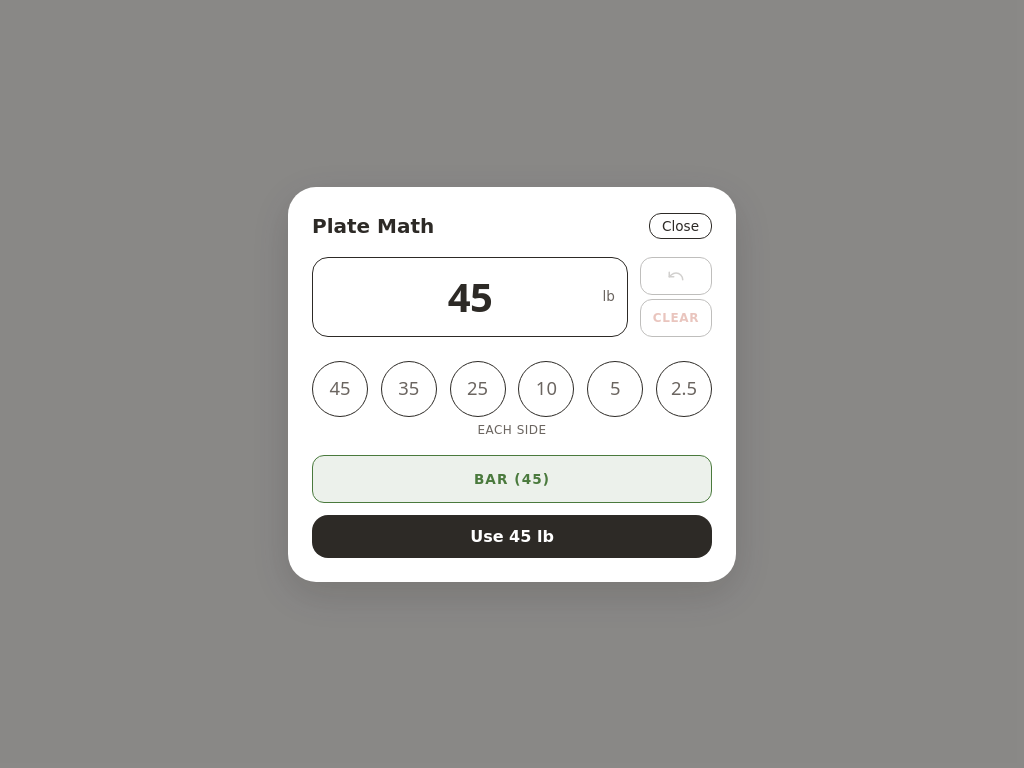
Test: PlateCalculator › undoLastPlate › removes the last added plate
Click the button "45" at [340, 388], box x1=312 y1=360 x2=368 y2=416
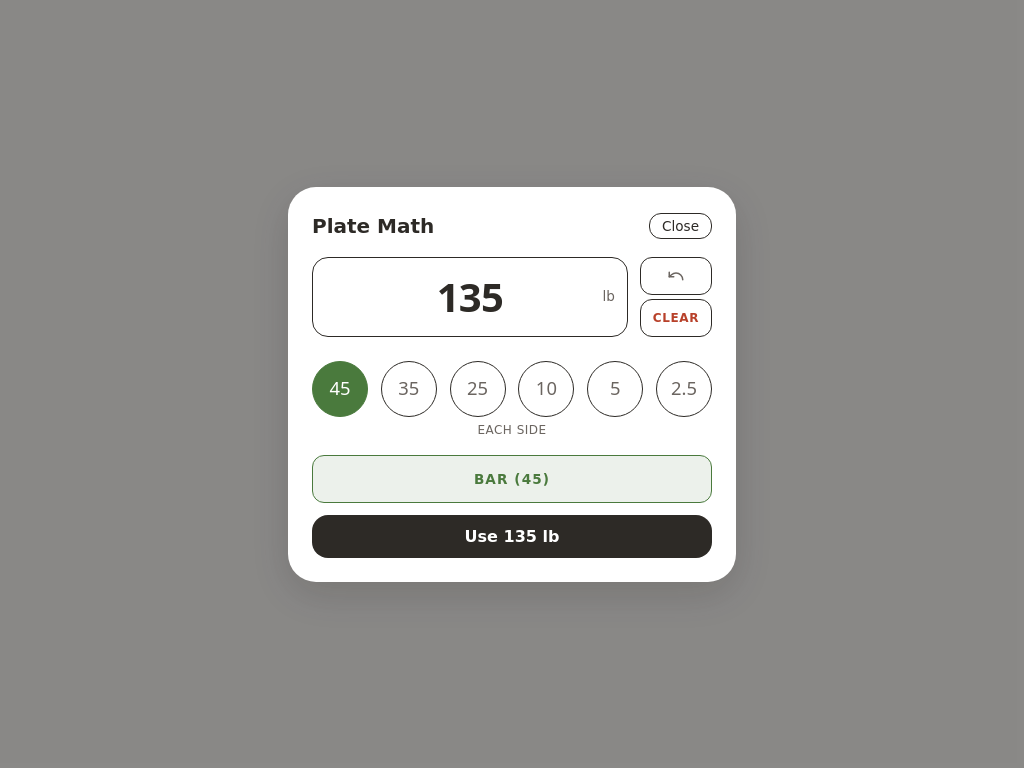
Click the button "25" at [478, 388], box x1=450 y1=360 x2=506 y2=416
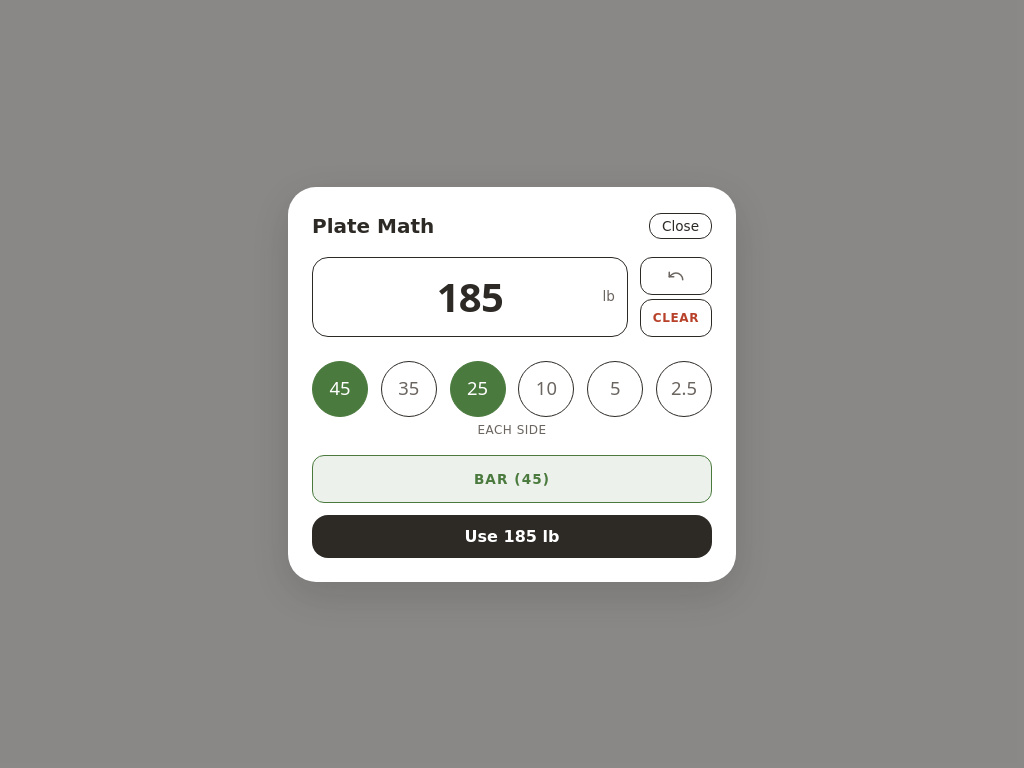
Now the number field holds "185", box x1=313 y1=258 x2=627 y2=336
Click the button named "Undo last plate" at [676, 276], box x1=640 y1=256 x2=712 y2=294
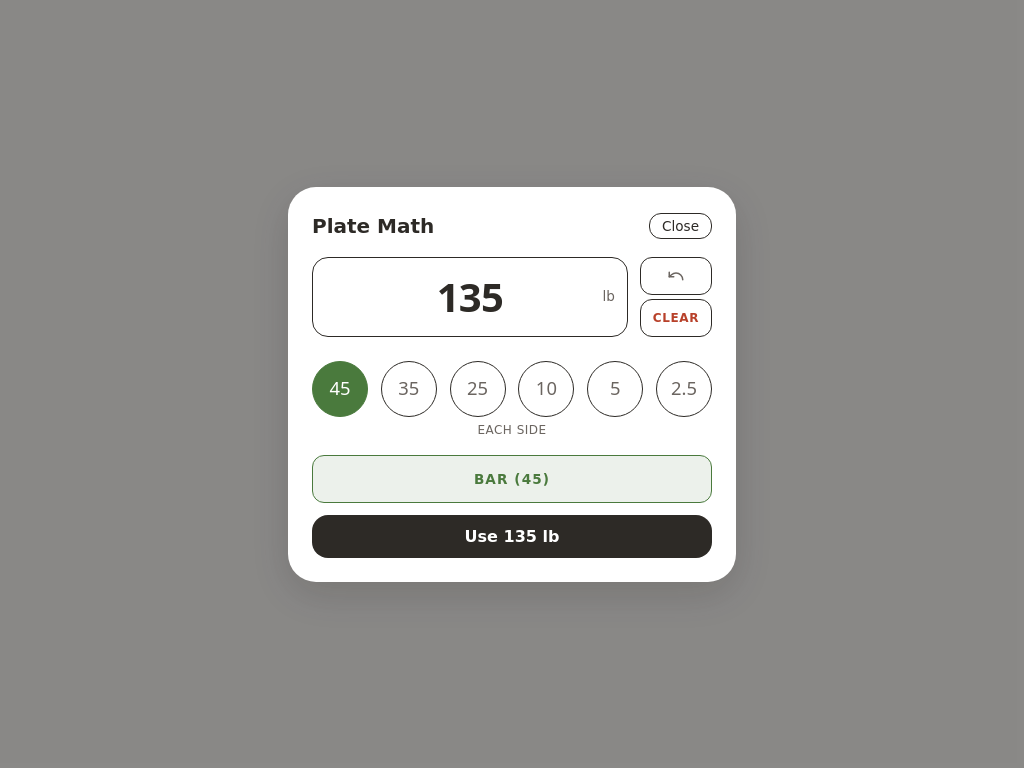
Now the number field holds "135", box x1=313 y1=258 x2=627 y2=336
